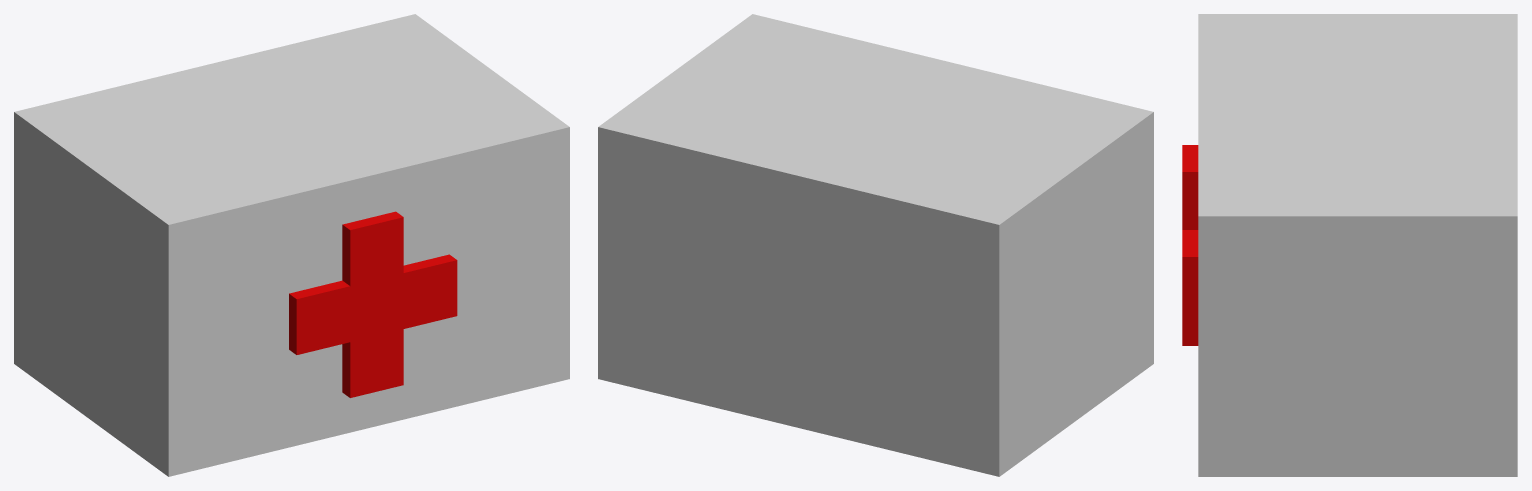
File: FirstAidKit.fbx
3 renders of one model, left to right at view 1: azimuth 30°, elevation 25°; view 2: azimuth 150°, elevation 25°; view 3: azimuth 270°, elevation 25°, orthographic. The views are drawn at different scales.
Parts seen in each view (by area): view 1: Cube; view 2: Cube; view 3: Cube.
Part boxes in pixels (x1,y1,x2,y2): Cube: [14, 14, 569, 476]; Cube: [598, 14, 1153, 476]; Cube: [1182, 14, 1517, 476].
Bounding box in the file's own units: 110 × 65.97 × 76.96.
